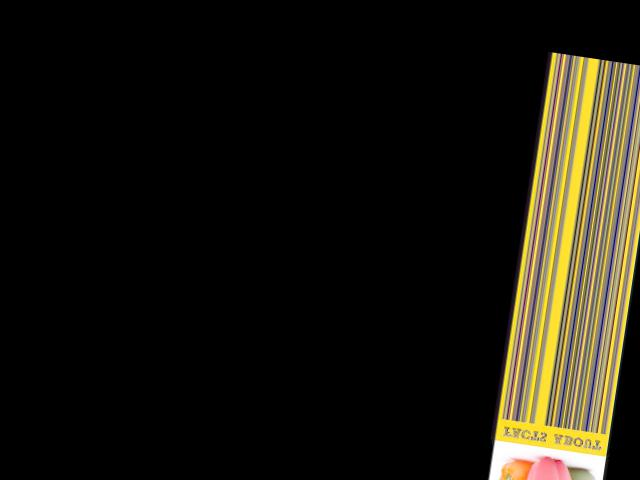bell_pepper: (567, 460, 603, 480)
